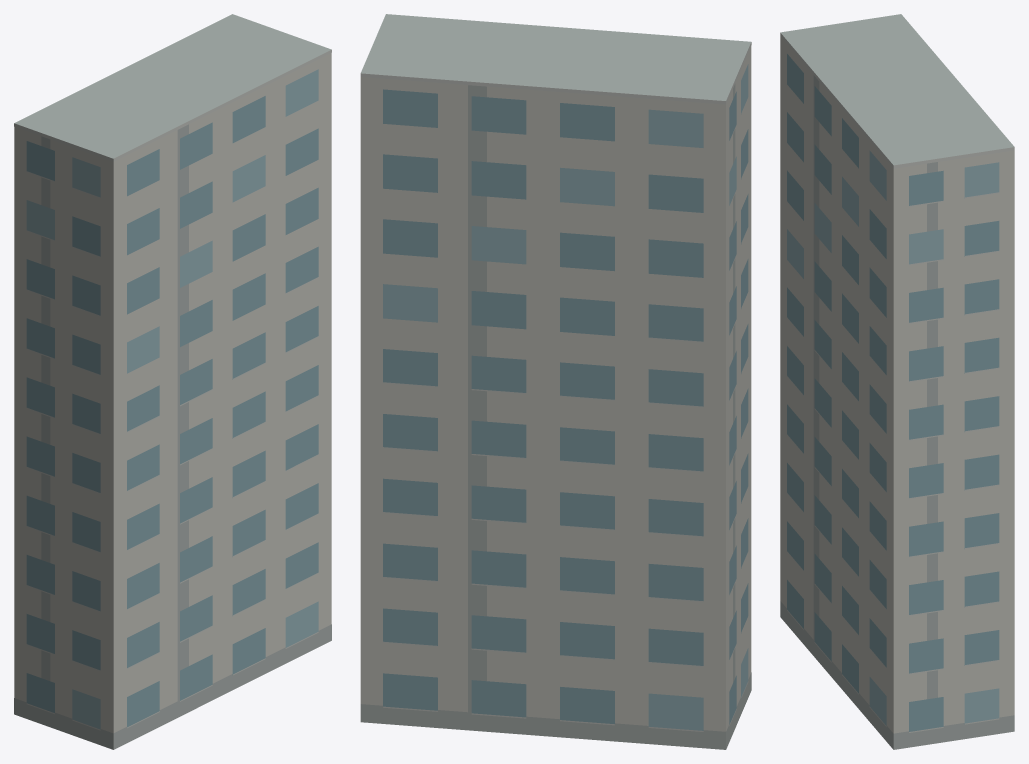
File: residential-d5b37103-87f6-4b64-8715-1d5a3c79b73f.glb
The picture shows the model from 3 angles, left to right: view 1: azimuth 30°, elevation 25°; view 2: azimuth 150°, elevation 25°; view 3: azimuth 270°, elevation 25°; orthographic projection. The views are drawn at different scales.
Visible parts, largest first — view 1: residential-d5b37103-87f6-4b64-8715-1d5a3c79b73f.tmp; view 2: residential-d5b37103-87f6-4b64-8715-1d5a3c79b73f.tmp; view 3: residential-d5b37103-87f6-4b64-8715-1d5a3c79b73f.tmp.
Part boxes in pixels (x1,y1,x2,y2): residential-d5b37103-87f6-4b64-8715-1d5a3c79b73f.tmp: (14, 14, 331, 749); residential-d5b37103-87f6-4b64-8715-1d5a3c79b73f.tmp: (360, 14, 751, 749); residential-d5b37103-87f6-4b64-8715-1d5a3c79b73f.tmp: (780, 14, 1014, 749).
Size of the model in its own units: 24.45 by 44 by 16.01.
